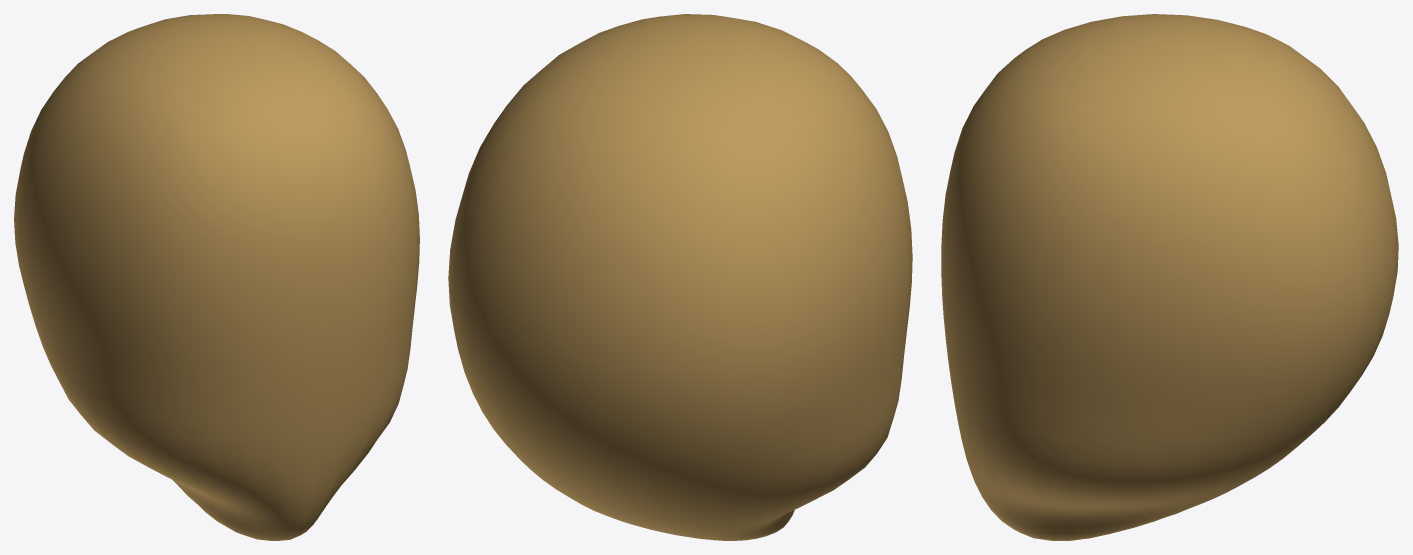
The model's file is head_head_009.gltf.
3 renders of one model, left to right at view 1: azimuth 30°, elevation 25°; view 2: azimuth 150°, elevation 25°; view 3: azimuth 270°, elevation 25°, orthographic. The views are drawn at different scales.
Parts seen in each view (by area): view 1: head.009; view 2: head.009; view 3: head.009.
Part boxes in pixels (left/top/right/bottom): head.009: left=14, top=14, right=419, bottom=540; head.009: left=448, top=14, right=912, bottom=540; head.009: left=941, top=14, right=1398, bottom=540.
Size of the model in its own units: 0.6201 by 0.8089 by 0.6789.
